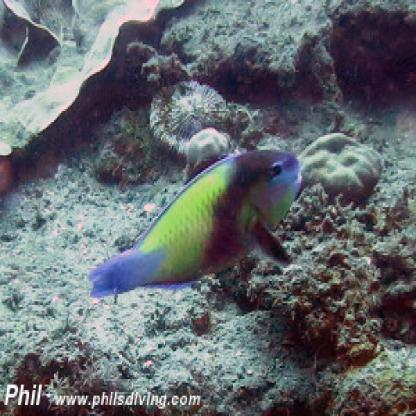Scaridae -Parrotfishes-: (84, 136, 302, 317)
